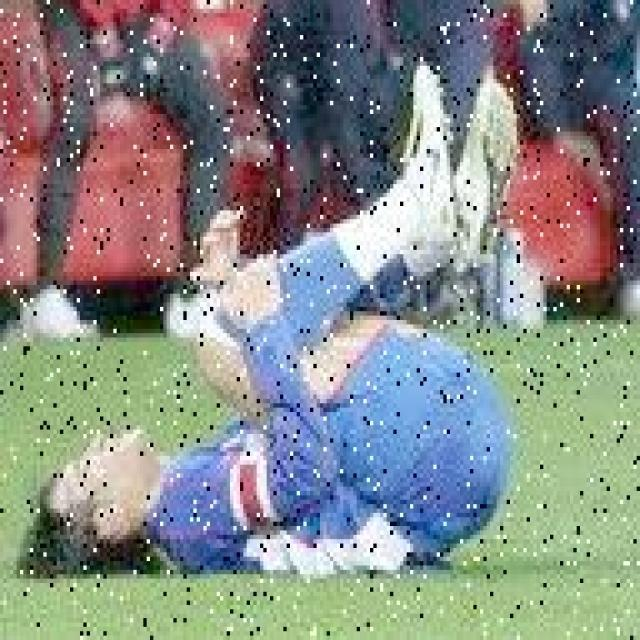fall: (33, 88, 520, 592)
